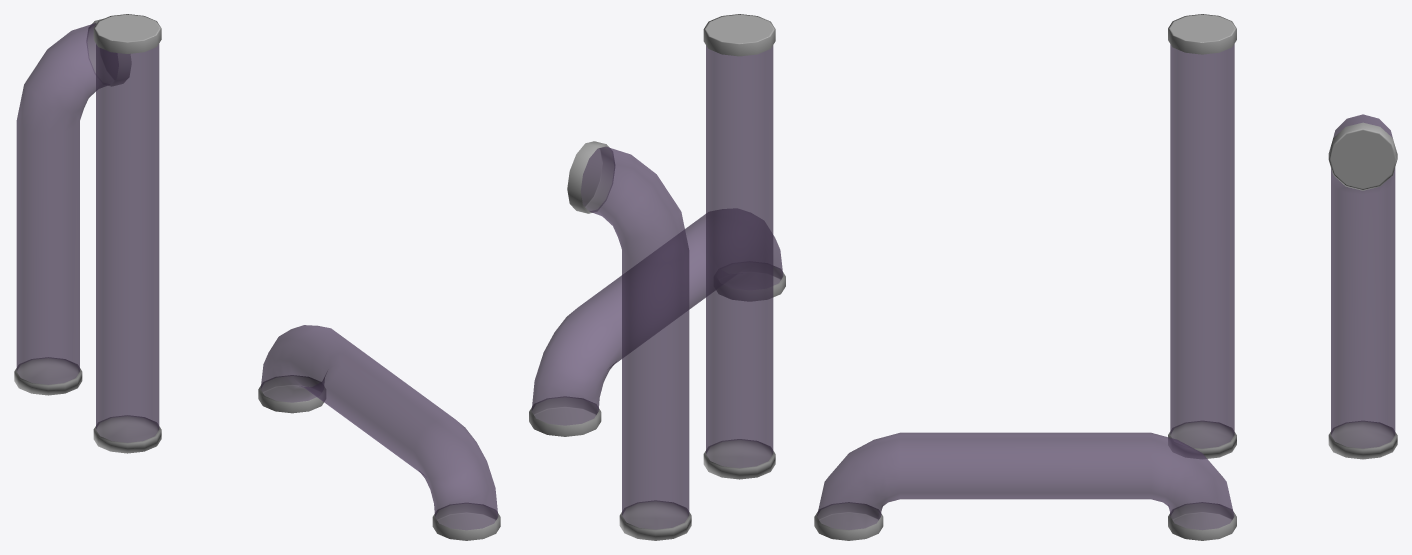
File: Environment_Tubes_1-3_Mesh.fbx
The picture shows the model from 3 angles, left to right: view 1: azimuth 30°, elevation 25°; view 2: azimuth 150°, elevation 25°; view 3: azimuth 270°, elevation 25°; orthographic projection. The views are drawn at different scales.
Visible parts, largest first — view 1: tube_001, tube_002, tube_003; view 2: tube_001, tube_002, tube_003; view 3: tube_003, tube_001, tube_002.
Part boxes in pixels (x1=…): tube_001: x1=93, y1=14, x2=161, y2=453; tube_002: x1=14, y1=18, x2=131, y2=395; tube_003: x1=258, y1=325, x2=500, y2=540; tube_001: x1=703, y1=14, x2=775, y2=479; tube_002: x1=567, y1=141, x2=691, y2=540; tube_003: x1=529, y1=209, x2=785, y2=436; tube_003: x1=814, y1=432, x2=1236, y2=540; tube_001: x1=1168, y1=14, x2=1236, y2=458; tube_002: x1=1328, y1=114, x2=1397, y2=459.
Size of the model in its own units: 814 by 1430 by 1814.
